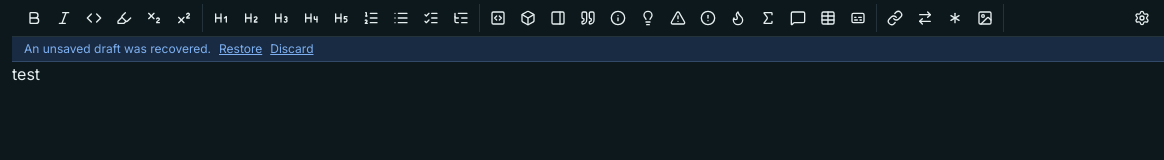
Test case: AsciiDocEditor › draft recovery banner › discardDraft clears the banner when Discard is clicked
Check: the text "An unsaved draft was recovered." is shown, box [24, 41, 211, 57]
Click the button "Discard".
click(292, 49)  # box [270, 41, 314, 57]
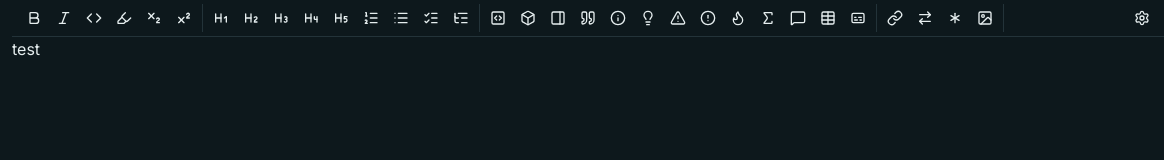
Check: the text "An unsaved draft was recovered." is gone
